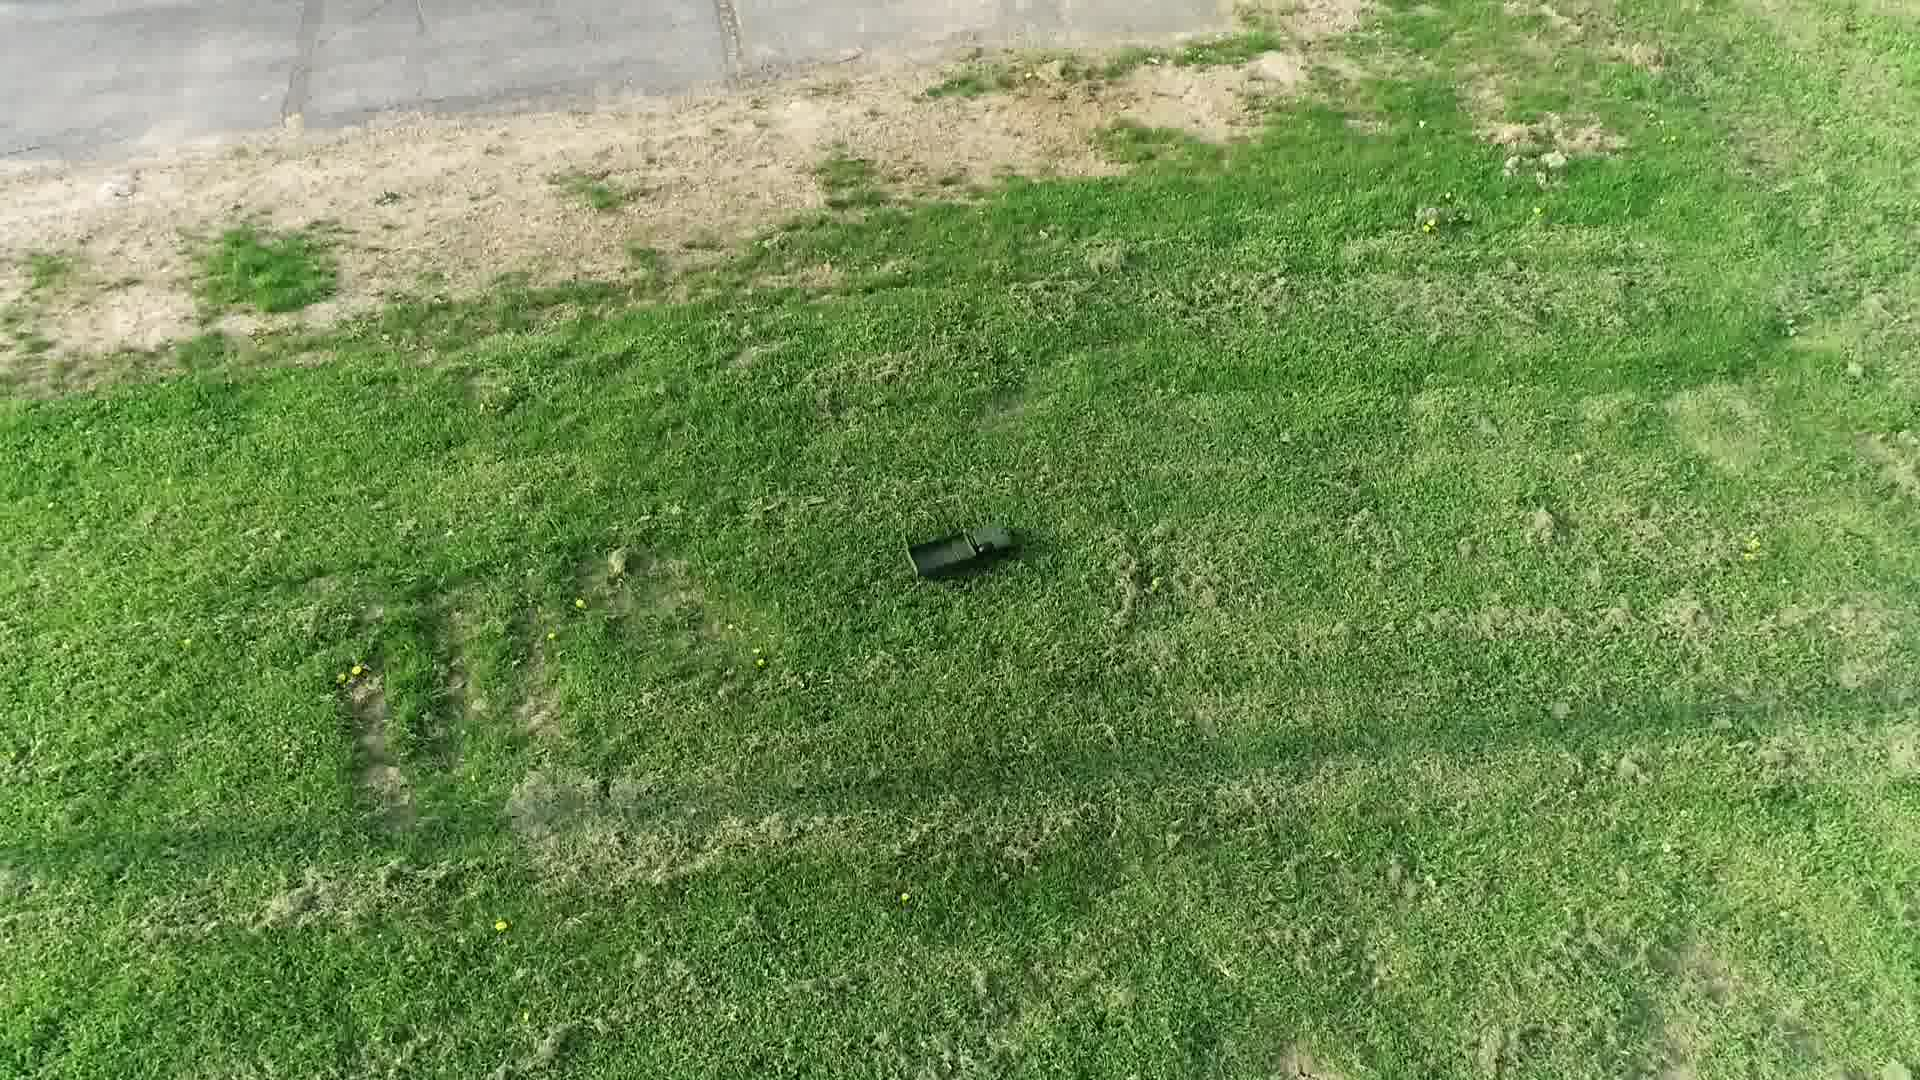transporter9: (901, 516, 1025, 583)
